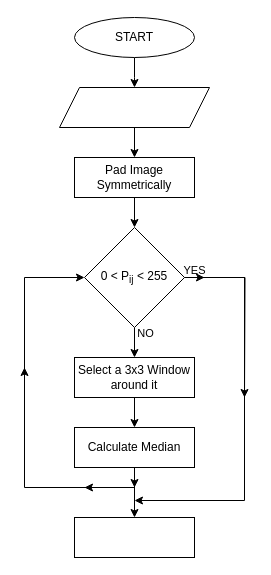
Image size: 271x575. Some labels were removed from this diagram. Here are the shapes that lost their labels. From the top down, the centre of each, then its label:
At point (134, 107): "Read Noisy Image".
At point (134, 537): "Denoised Image".
